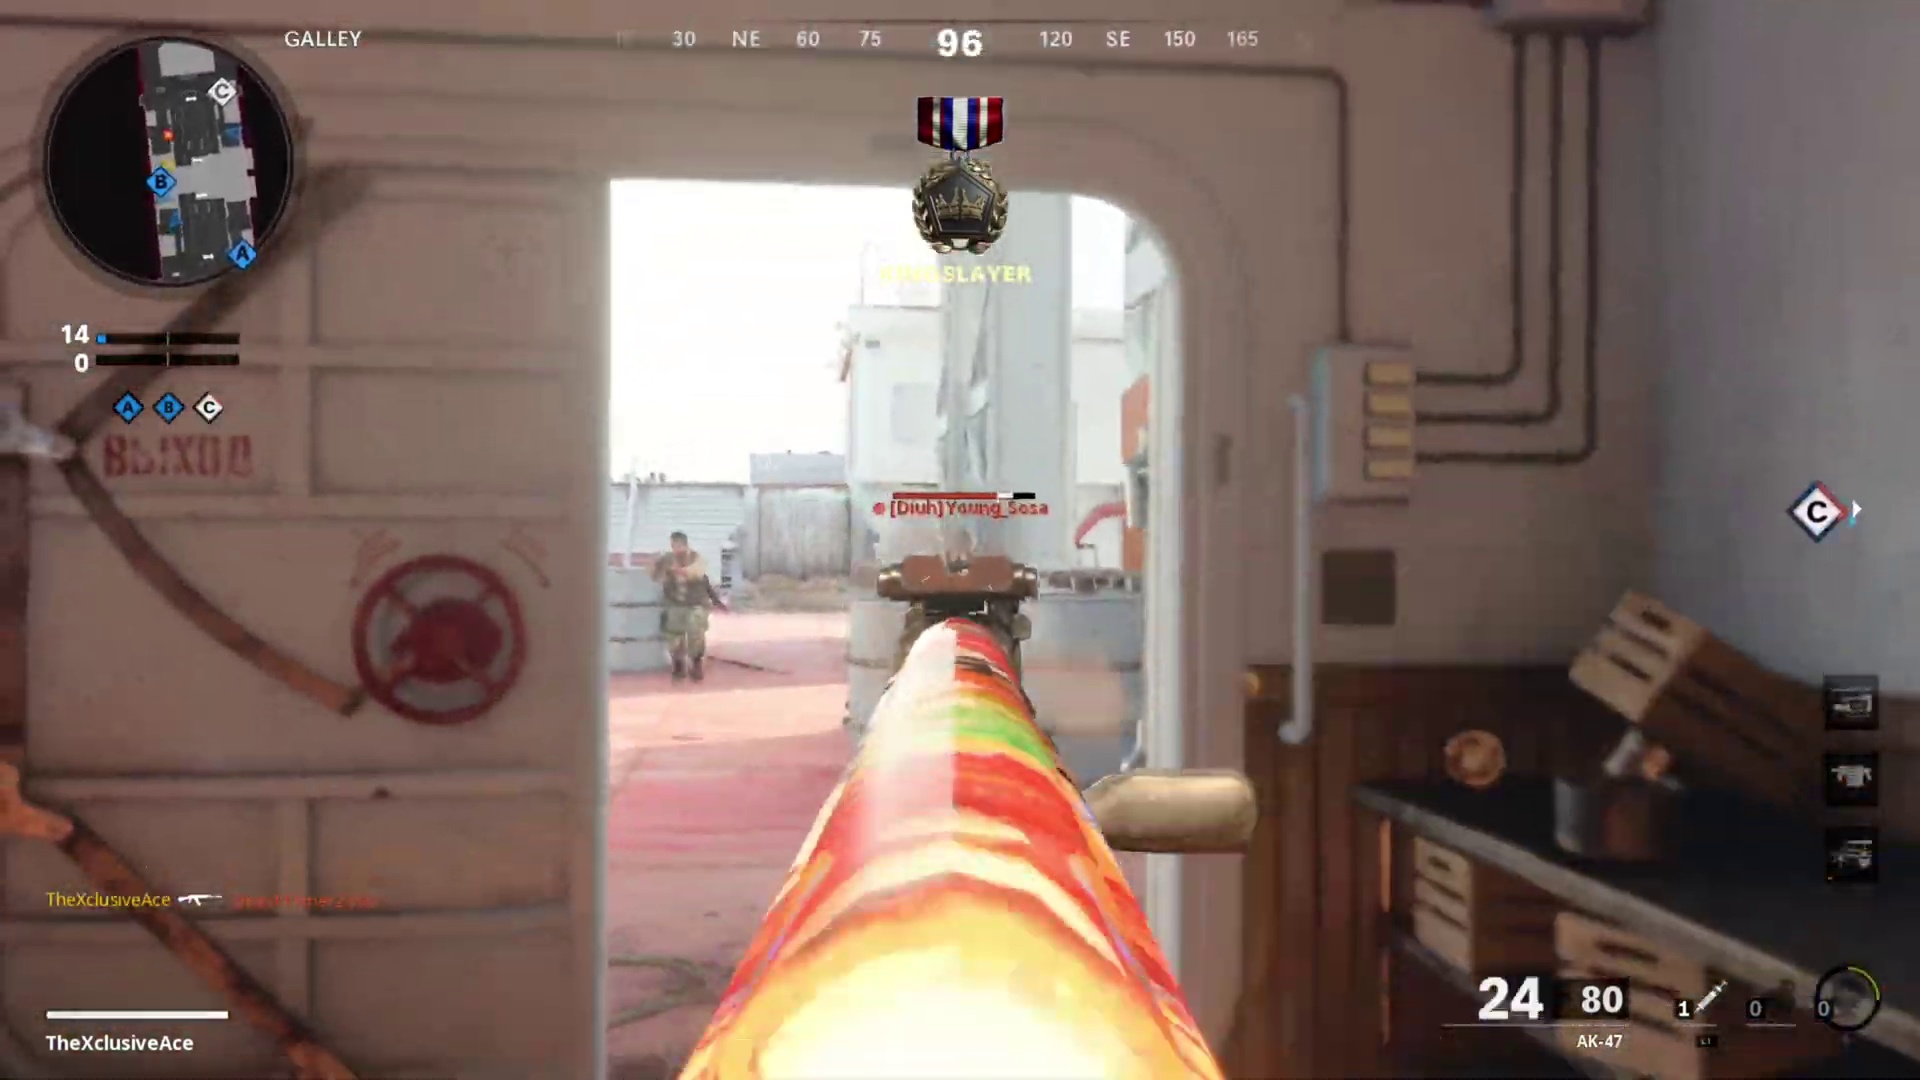head: (663, 527, 688, 560)
person: (641, 531, 723, 674)
